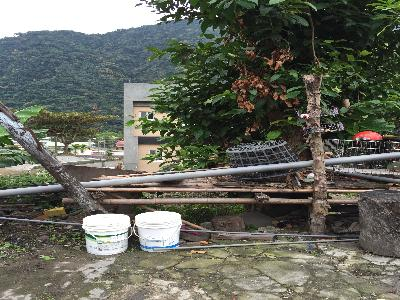bucket: (81, 212, 132, 257), (135, 210, 183, 253)
